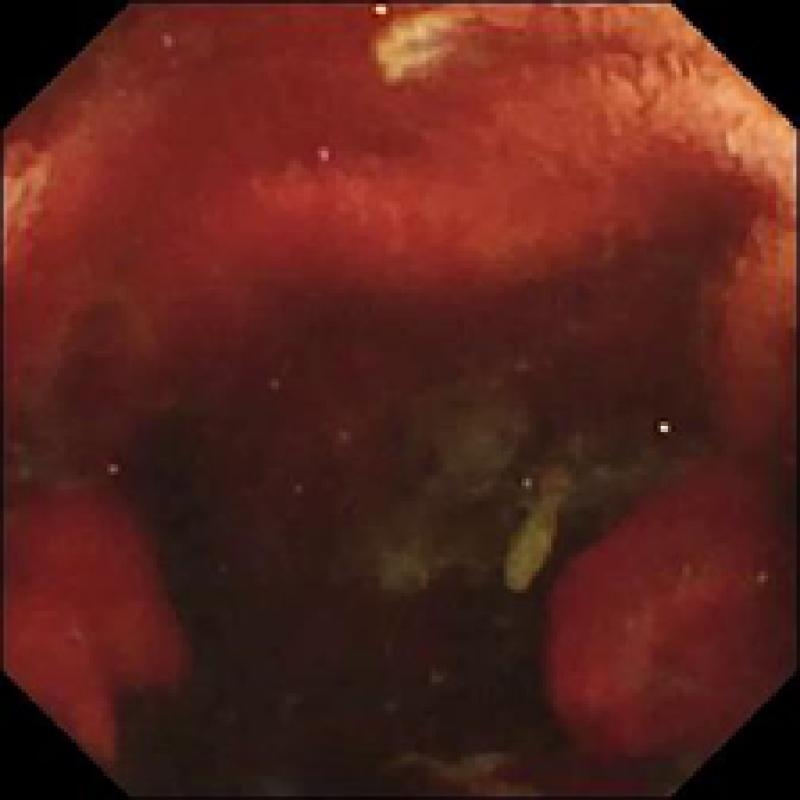bleeding: (0, 28, 764, 742)
